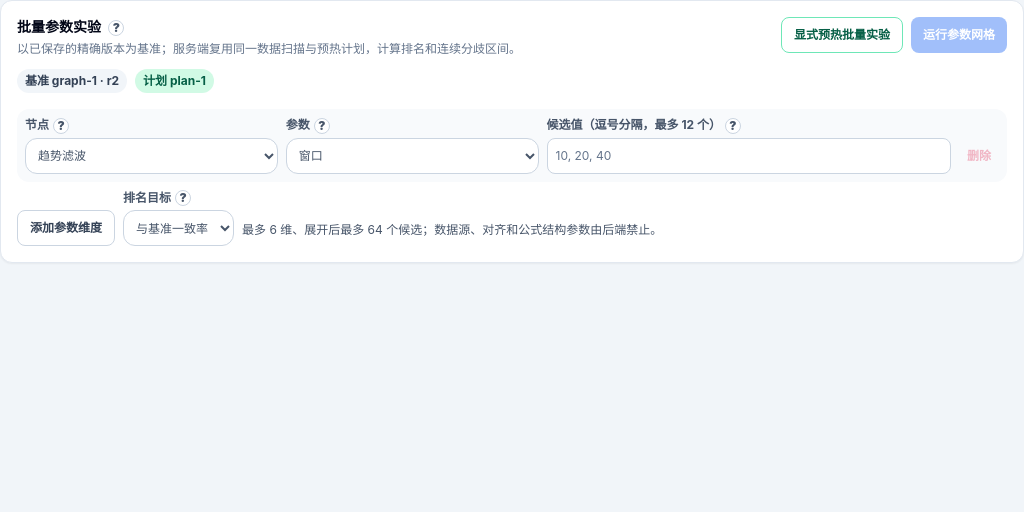
Scenario: regime V2 P1 panels › 使用已显式预热计划运行真实批量实验，并展示基准、排名和分歧区间
The image size is (1024, 512).
In the field named "实验维度1候选值": [749, 156] box [546,138,951,174], type "10, 40"
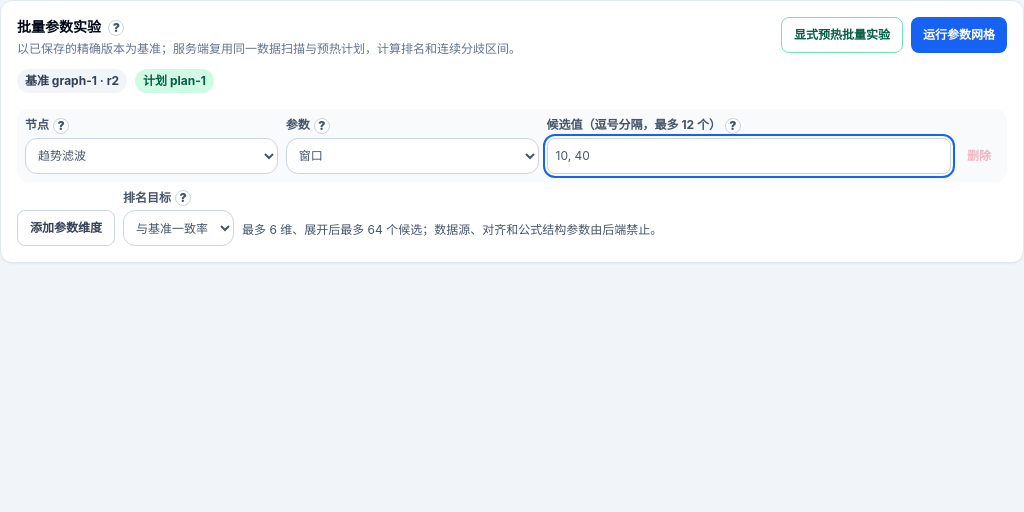
Click the button "运行参数网格": [959, 35] box [911,17,1007,53]
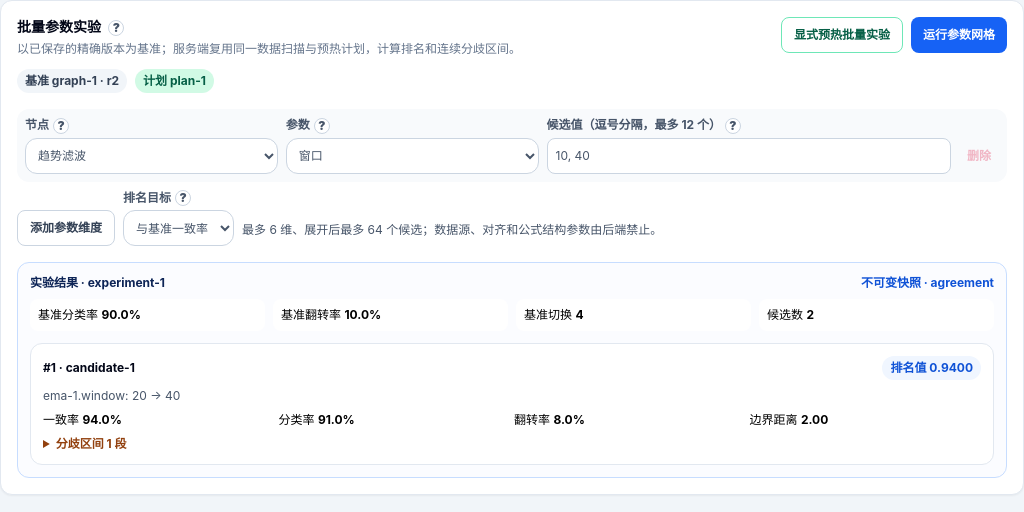
Expected: the heading "实验结果 · experiment-1" is shown, [30,275,165,291]
